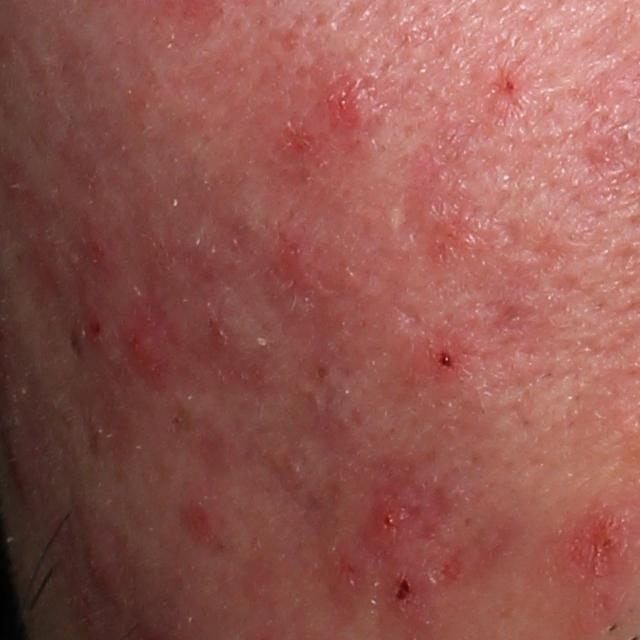comedo: (314, 364, 327, 380)
papule: (411, 317, 482, 389), (562, 510, 628, 580), (75, 528, 131, 604), (191, 306, 265, 363), (123, 321, 181, 386), (377, 562, 428, 621), (323, 73, 369, 131), (271, 114, 323, 164), (174, 494, 220, 549), (272, 230, 313, 288), (413, 195, 464, 237)
